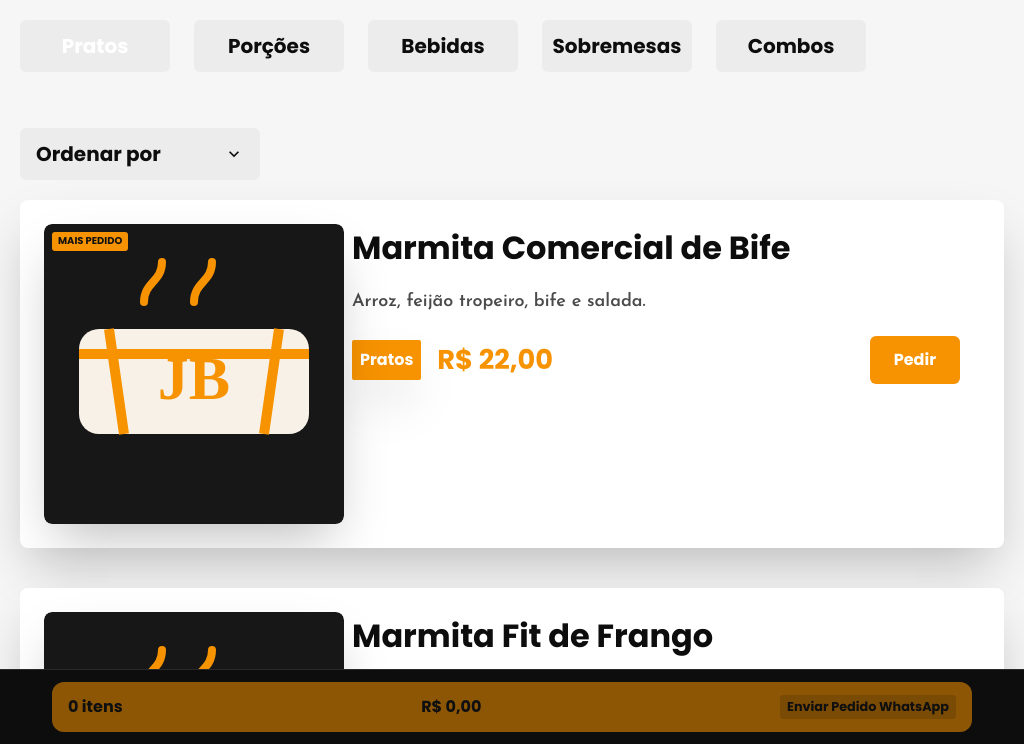
Test case: Tela: Site público (cardápio) › abre o modal de pedido a partir do carrinho
The width and height of the screenshot is (1024, 744).
(page scrolled)
Click the button "Pedir". click: (915, 360)
box: [870,336,960,384]
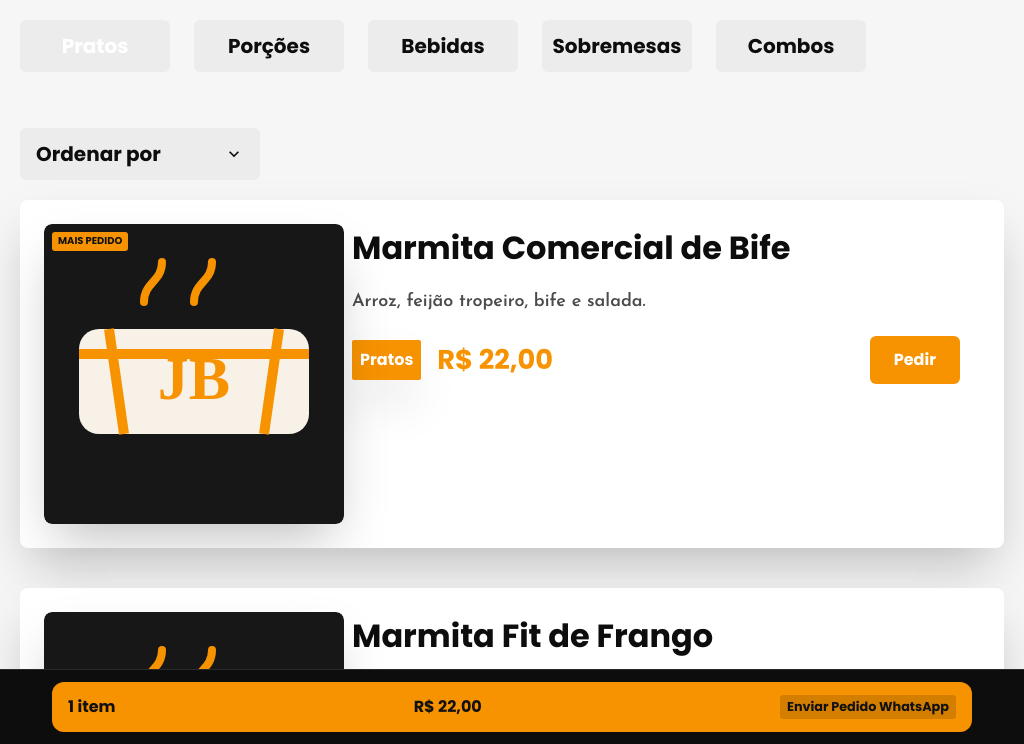
Click the text "Enviar Pedido WhatsApp". click: (868, 707)
box: [780,695,956,719]
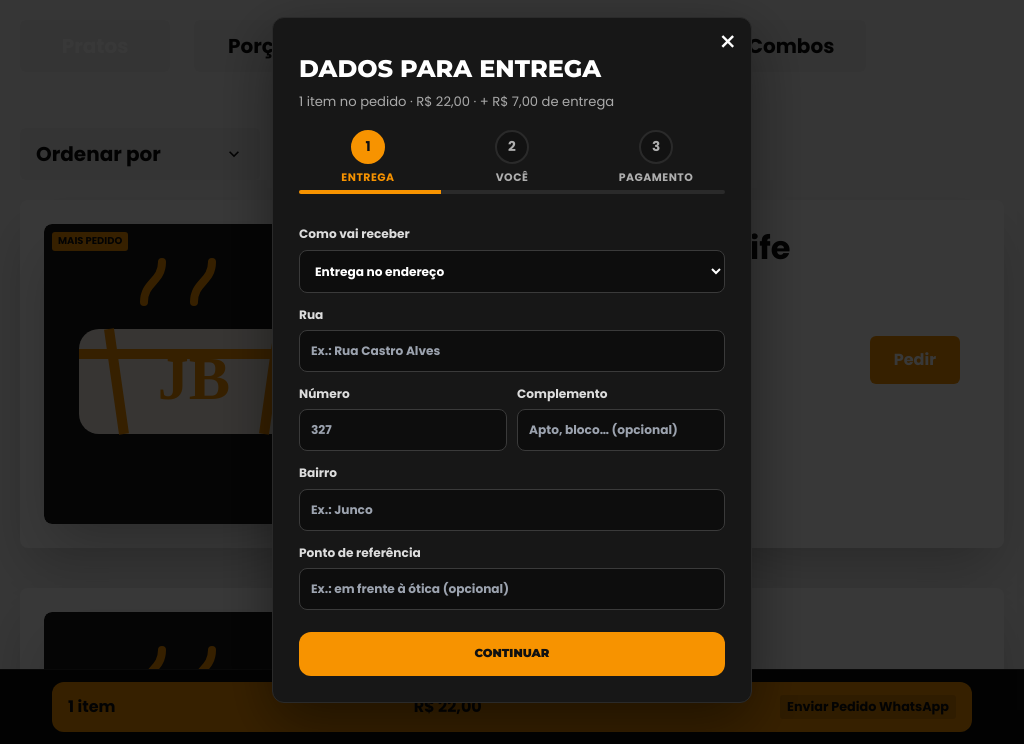
Check: the heading "Dados para entrega" is shown, box [299,54,601,83]
